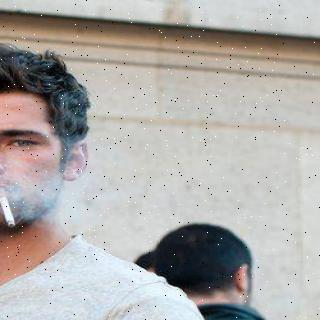smoke: (8, 161, 134, 226)
